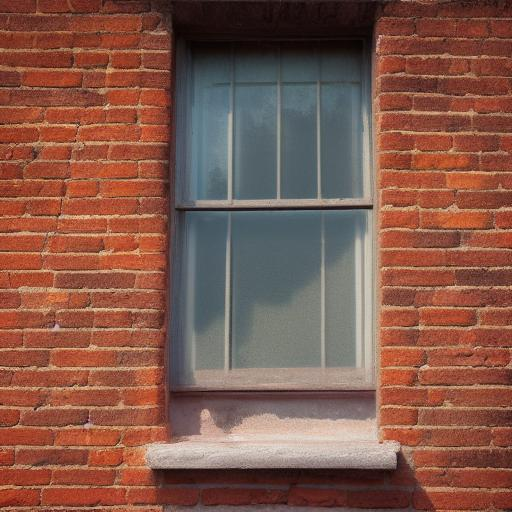Window: (146, 2, 403, 476)
